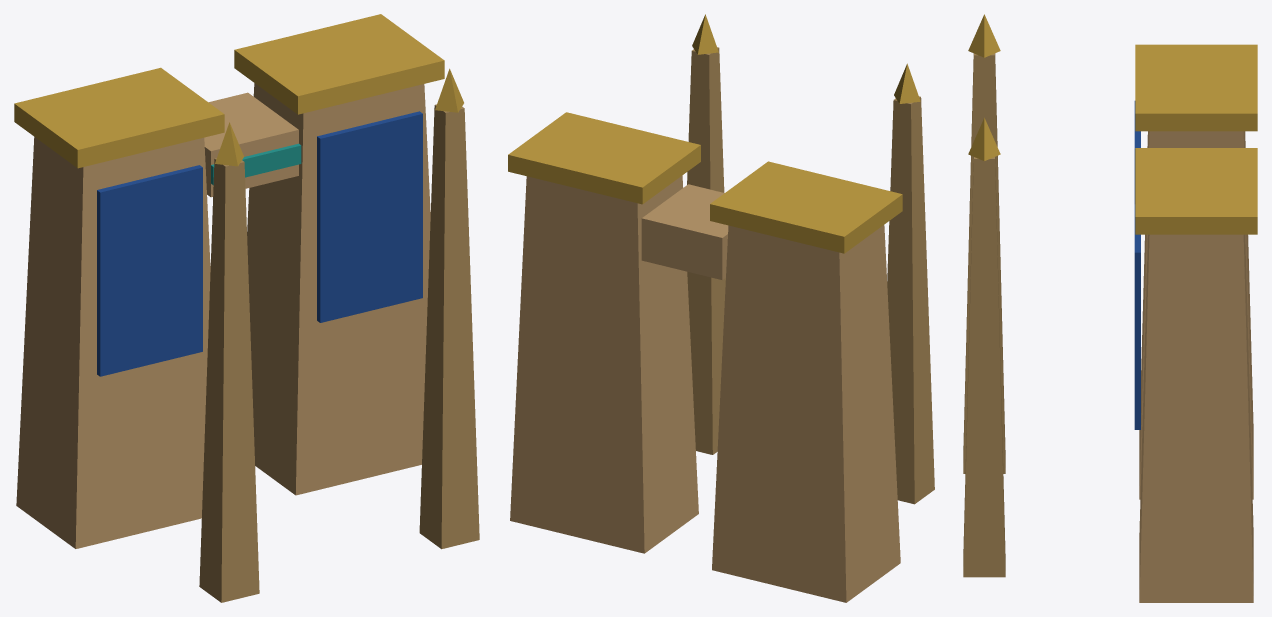
Rendered from gnoll_landmark.glb.
3 views of the same model, side by side, from view 1: azimuth 30°, elevation 25°; view 2: azimuth 150°, elevation 25°; view 3: azimuth 270°, elevation 25° (orthographic). The views are drawn at different scales.
Parts seen in each view (by area): view 1: gnoll_landmark; view 2: gnoll_landmark; view 3: gnoll_landmark.
Part boxes in pixels (<box>): gnoll_landmark: <box>14,14,479,602</box>; gnoll_landmark: <box>508,14,934,602</box>; gnoll_landmark: <box>963,14,1257,602</box>.
Bounding box in the file's own units: 2.5 × 3.05 × 1.8.
